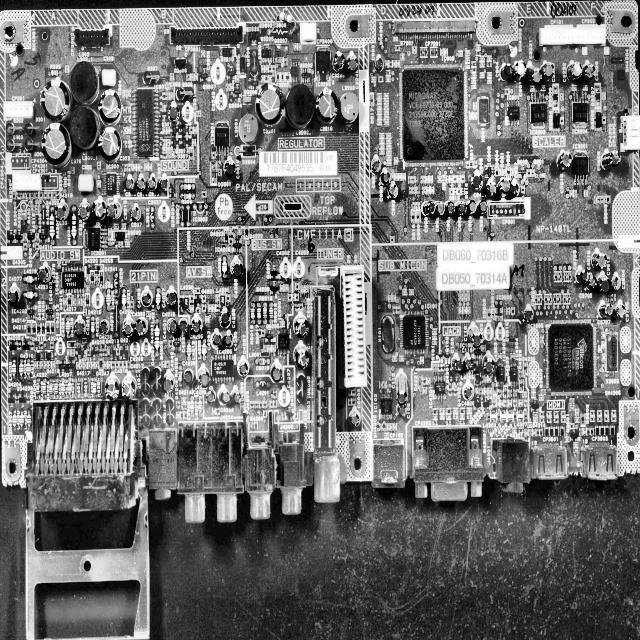PCB: (0, 8, 640, 524)
